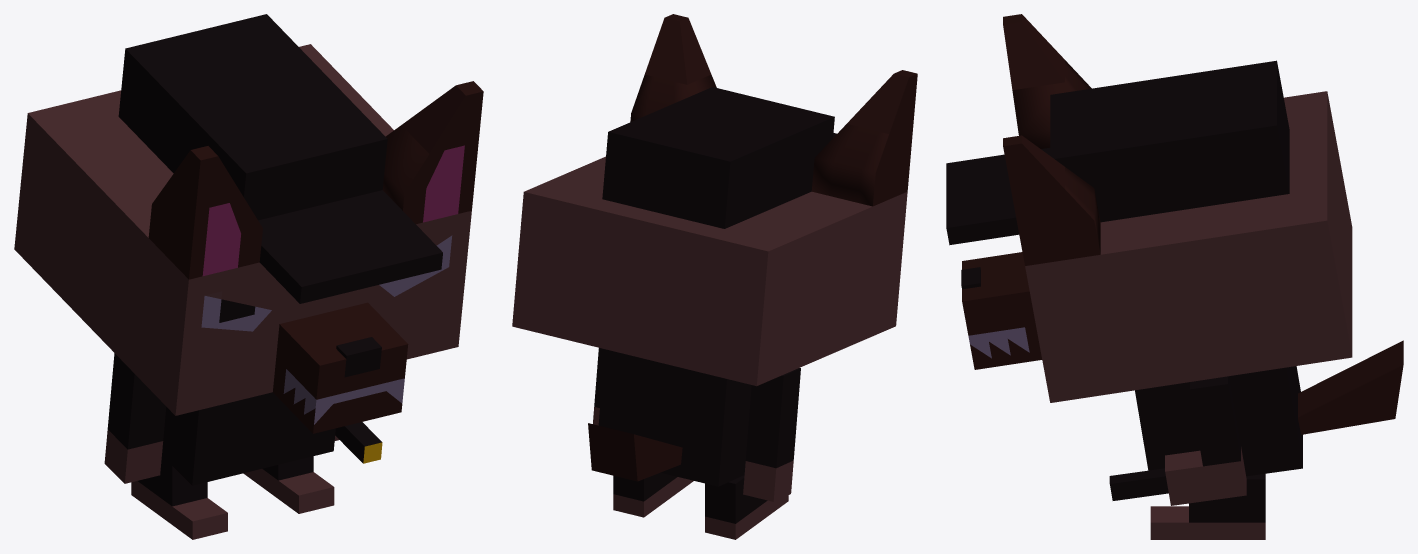
The model's file is guardDog_chase.glb.
The picture shows the model from 3 angles, left to right: view 1: azimuth 30°, elevation 25°; view 2: azimuth 150°, elevation 25°; view 3: azimuth 270°, elevation 25°; orthographic projection. The views are drawn at different scales.
Parts seen in each view (by area): view 1: guardDogChase_head_MSH, guardDogChase_body_MSH, guardDogChase_R_arm_MSH, guardDogChase_R_leg_MSH, guardDogChase_L_leg_MSH, guardDogChase_L_arm_MSH; view 2: guardDogChase_head_MSH, guardDogChase_body_MSH, guardDogChase_R_arm_MSH, guardDogChase_tail_MSH, guardDogChase_R_leg_MSH, guardDogChase_L_leg_MSH, guardDogChase_L_arm_MSH; view 3: guardDogChase_head_MSH, guardDogChase_body_MSH, guardDogChase_L_arm_MSH, guardDogChase_tail_MSH, guardDogChase_L_leg_MSH.
Part boxes in pixels (bbox=[...]): guardDogChase_head_MSH: bbox=[14, 14, 483, 433]; guardDogChase_body_MSH: bbox=[162, 392, 335, 485]; guardDogChase_R_arm_MSH: bbox=[104, 353, 166, 483]; guardDogChase_R_leg_MSH: bbox=[131, 453, 227, 539]; guardDogChase_L_leg_MSH: bbox=[243, 456, 334, 513]; guardDogChase_L_arm_MSH: bbox=[334, 422, 382, 463]; guardDogChase_head_MSH: bbox=[512, 14, 917, 386]; guardDogChase_body_MSH: bbox=[598, 349, 751, 486]; guardDogChase_R_arm_MSH: bbox=[743, 368, 800, 501]; guardDogChase_tail_MSH: bbox=[588, 423, 682, 481]; guardDogChase_R_leg_MSH: bbox=[705, 475, 788, 539]; guardDogChase_L_leg_MSH: bbox=[613, 472, 693, 517]; guardDogChase_L_arm_MSH: bbox=[593, 348, 604, 425]; guardDogChase_head_MSH: bbox=[946, 14, 1352, 402]; guardDogChase_body_MSH: bbox=[1135, 366, 1302, 476]; guardDogChase_L_arm_MSH: bbox=[1109, 376, 1246, 505]; guardDogChase_tail_MSH: bbox=[1298, 340, 1403, 434]; guardDogChase_L_leg_MSH: bbox=[1150, 473, 1265, 539].
Bounding box in the file's own units: 0.667 × 1.03 × 0.9954.
